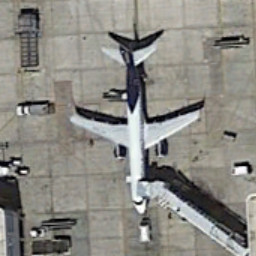Airplane: (63, 35, 210, 228)
